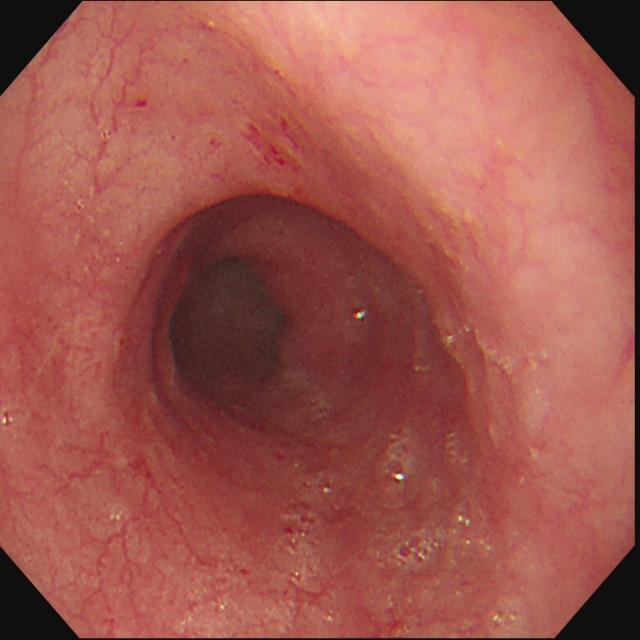A: (205, 97, 317, 180)
E: (153, 245, 299, 420)
T: (388, 524, 446, 568), (380, 430, 418, 490), (283, 510, 316, 559), (305, 470, 340, 497)
